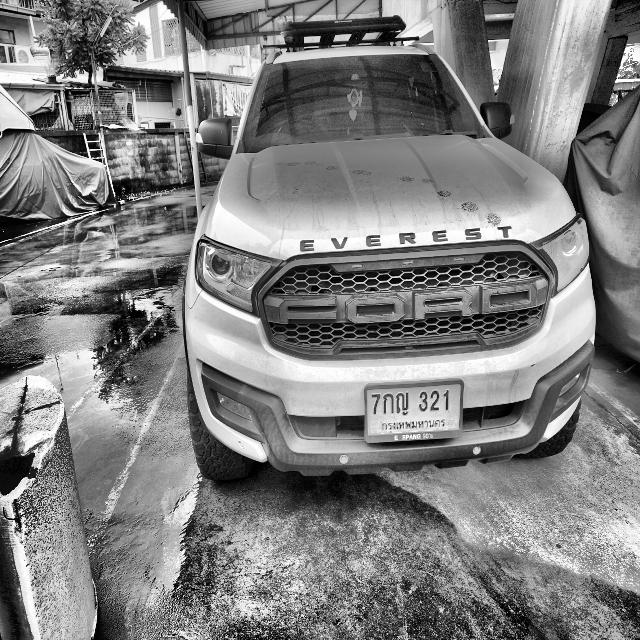license-plate: (363, 379, 468, 441)
